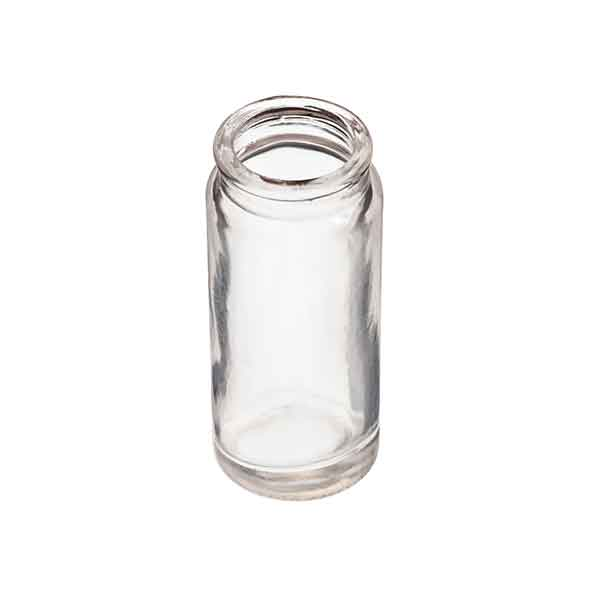glass_bottle: (185, 87, 408, 515)
